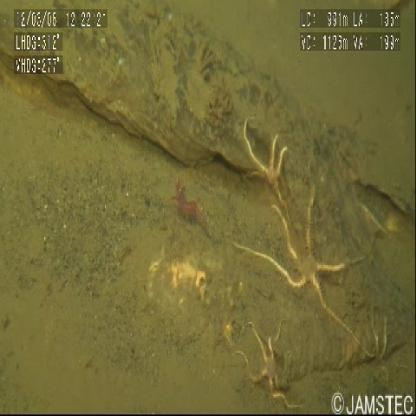Rác: (8, 10, 416, 378)
